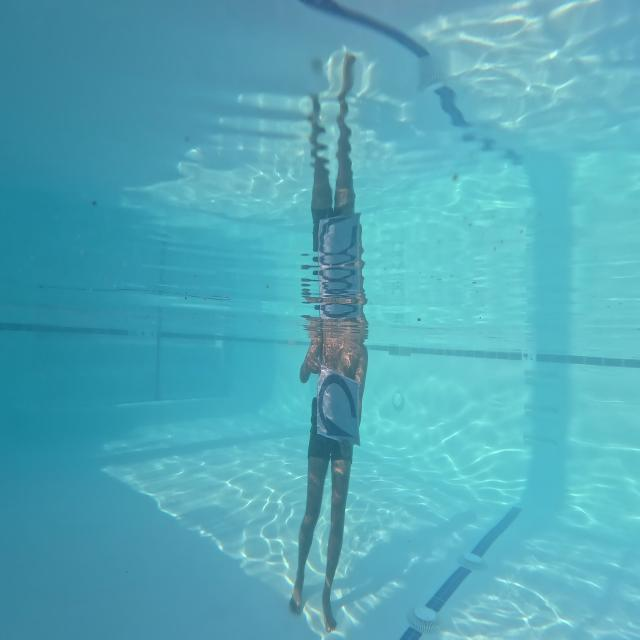blue_side: (316, 373, 359, 445)
